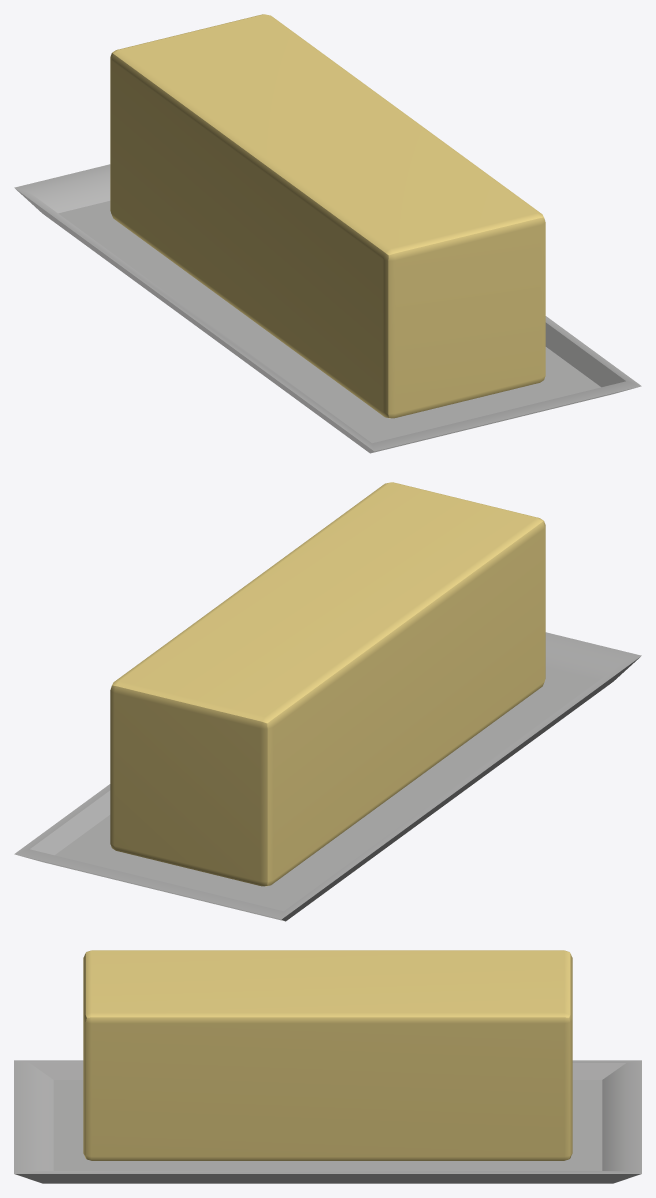
Rendered from butter_plate 1.fbx.
3 renders of one model, top to bottom at view 1: azimuth 30°, elevation 25°; view 2: azimuth 150°, elevation 25°; view 3: azimuth 270°, elevation 25°, orthographic. The views are drawn at different scales.
Visible parts, largest first — view 1: butter1, plate; view 2: butter1, plate; view 3: butter1, plate.
Part boxes in pixels (left/top/right/bottom): butter1: left=110, top=14, right=545, bottom=418; plate: left=14, top=164, right=641, bottom=453; butter1: left=110, top=482, right=545, bottom=886; plate: left=14, top=632, right=641, bottom=921; butter1: left=83, top=950, right=572, bottom=1160; plate: left=14, top=1060, right=641, bottom=1183.
Size of the model in its own units: 1.65 by 1.02 by 3.85.
